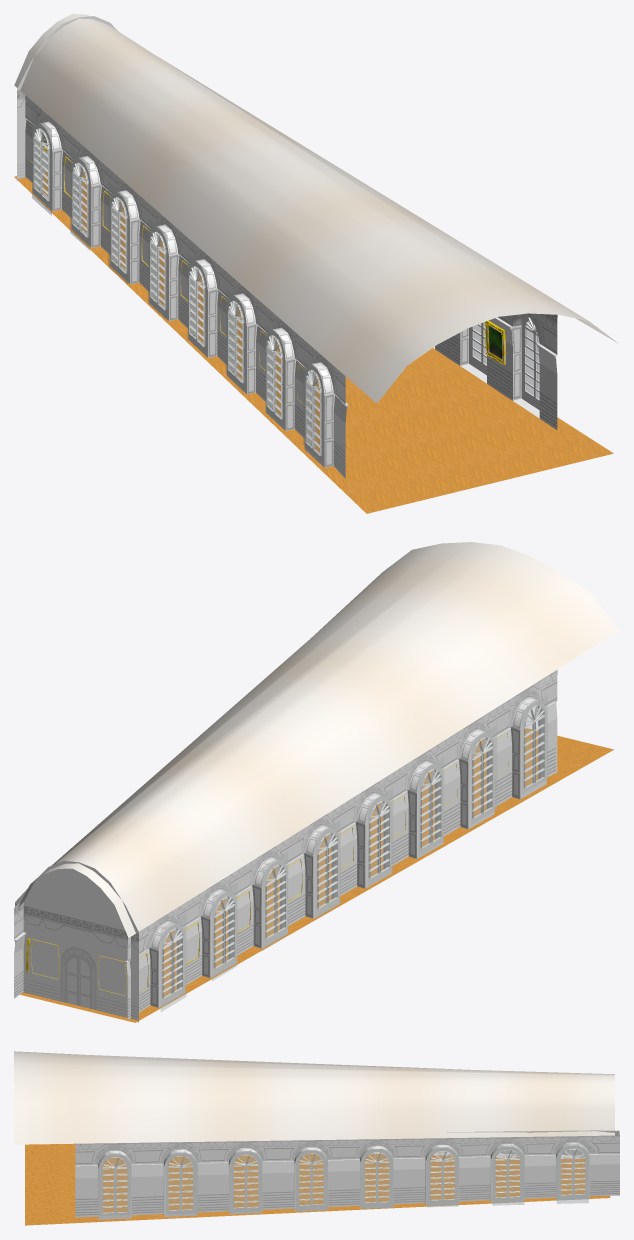
Rendered from 300_bg_veronicaA 1.fbx.
The picture shows the model from 3 angles, top to bottom: view 1: azimuth 30°, elevation 25°; view 2: azimuth 150°, elevation 25°; view 3: azimuth 270°, elevation 25°; orthographic projection. The views are drawn at different scales.
Visible parts, largest first — view 1: pPlane3, pasted__pPlane3, pCylinder17, pPlane1, pCylinder18, pasted__pCylinder17, pasted__pCylinder18, pPlane5, pPlane7, pPlane11, pPlane12, pPlane9 (+4 smaller); view 2: pPlane3, pasted__pPlane3, pCylinder17, pPlane4, pasted__pCylinder17, pPlane1, pasted__pPlane4, pPlane5, pPlane6, pPlane9, pPlane11, pPlane10 (+4 smaller); view 3: pPlane3, pCylinder18, pasted__pPlane3, pPlane1, pasted__pCylinder18, pPlane14, pPlane19, pPlane20, pPlane17, pPlane15, pPlane16, pPlane18 (+2 smaller).
Part boxes in pixels (left/top/right/bottom): pPlane3: left=14, top=14, right=618, bottom=403; pasted__pPlane3: left=15, top=14, right=608, bottom=402; pCylinder17: left=25, top=95, right=348, bottom=478; pPlane1: left=14, top=170, right=613, bottom=513; pCylinder18: left=433, top=313, right=557, bottom=429; pasted__pCylinder17: left=25, top=97, right=347, bottom=476; pasted__pCylinder18: left=434, top=314, right=557, bottom=428; pPlane5: left=303, top=359, right=322, bottom=461; pPlane7: left=226, top=289, right=245, bottom=391; pPlane11: left=70, top=147, right=89, bottom=249; pPlane12: left=32, top=113, right=51, bottom=215; pPlane9: left=148, top=218, right=167, bottom=320; pPlane3: left=18, top=542, right=619, bottom=937; pasted__pPlane3: left=18, top=542, right=619, bottom=936; pCylinder17: left=125, top=669, right=557, bottom=1019; pPlane4: left=15, top=861, right=138, bottom=1022; pasted__pCylinder17: left=127, top=671, right=557, bottom=1017; pPlane1: left=20, top=728, right=613, bottom=1022; pasted__pPlane4: left=16, top=861, right=138, bottom=1019; pPlane5: left=522, top=695, right=547, bottom=794; pPlane6: left=471, top=726, right=496, bottom=824; pPlane9: left=315, top=820, right=340, bottom=918; pPlane11: left=212, top=882, right=237, bottom=980; pPlane10: left=262, top=852, right=287, bottom=950; pPlane3: left=14, top=1051, right=614, bottom=1144; pCylinder18: left=75, top=1130, right=619, bottom=1219; pasted__pPlane3: left=14, top=1051, right=614, bottom=1144; pPlane1: left=25, top=1143, right=610, bottom=1225; pasted__pCylinder18: left=75, top=1130, right=619, bottom=1218; pPlane14: left=492, top=1145, right=524, bottom=1205; pPlane19: left=166, top=1154, right=197, bottom=1213; pPlane20: left=99, top=1156, right=130, bottom=1215; pPlane17: left=296, top=1150, right=327, bottom=1210; pPlane15: left=427, top=1147, right=458, bottom=1206; pPlane16: left=361, top=1149, right=392, bottom=1208; pPlane18: left=230, top=1152, right=261, bottom=1212.
Bounding box in the file's own units: 2090 × 1395 × 6385.
